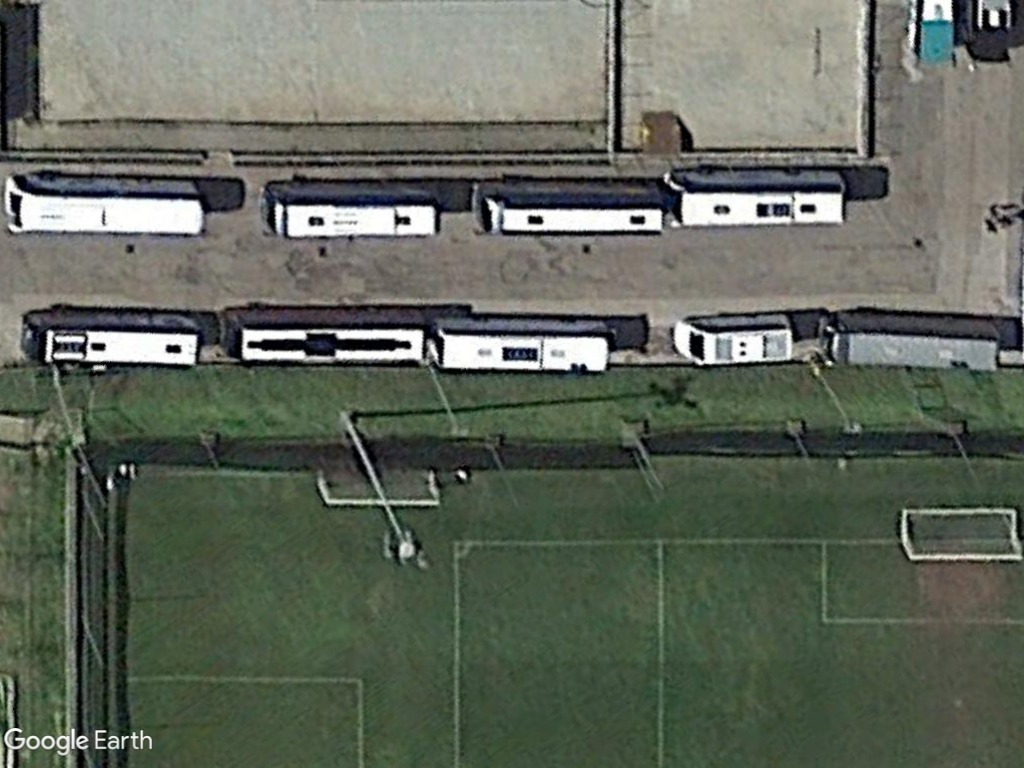bus: (2, 171, 210, 241), (221, 307, 432, 367), (812, 308, 1006, 373), (18, 304, 210, 369), (427, 315, 614, 377), (257, 180, 447, 241), (669, 167, 846, 230), (472, 183, 670, 239), (668, 311, 796, 365)
